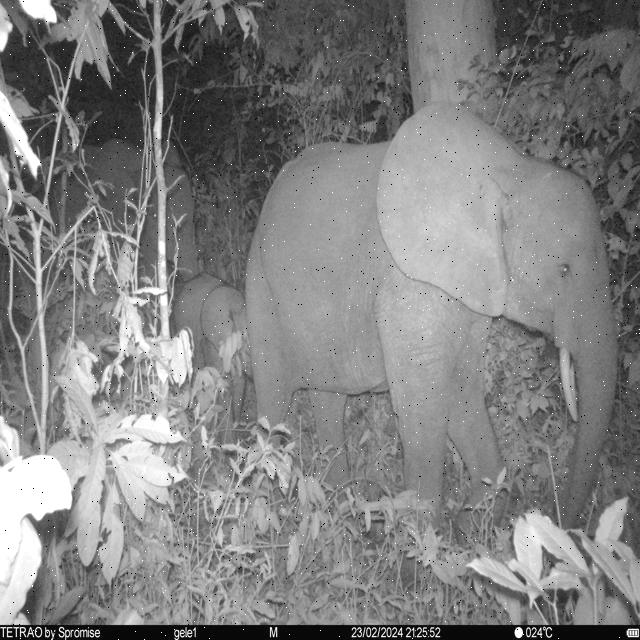calf: (172, 274, 248, 435)
ear: (376, 105, 512, 322), (198, 285, 244, 354)
elephant: (246, 105, 620, 538), (46, 138, 198, 282)
tusk: (558, 346, 579, 424)
